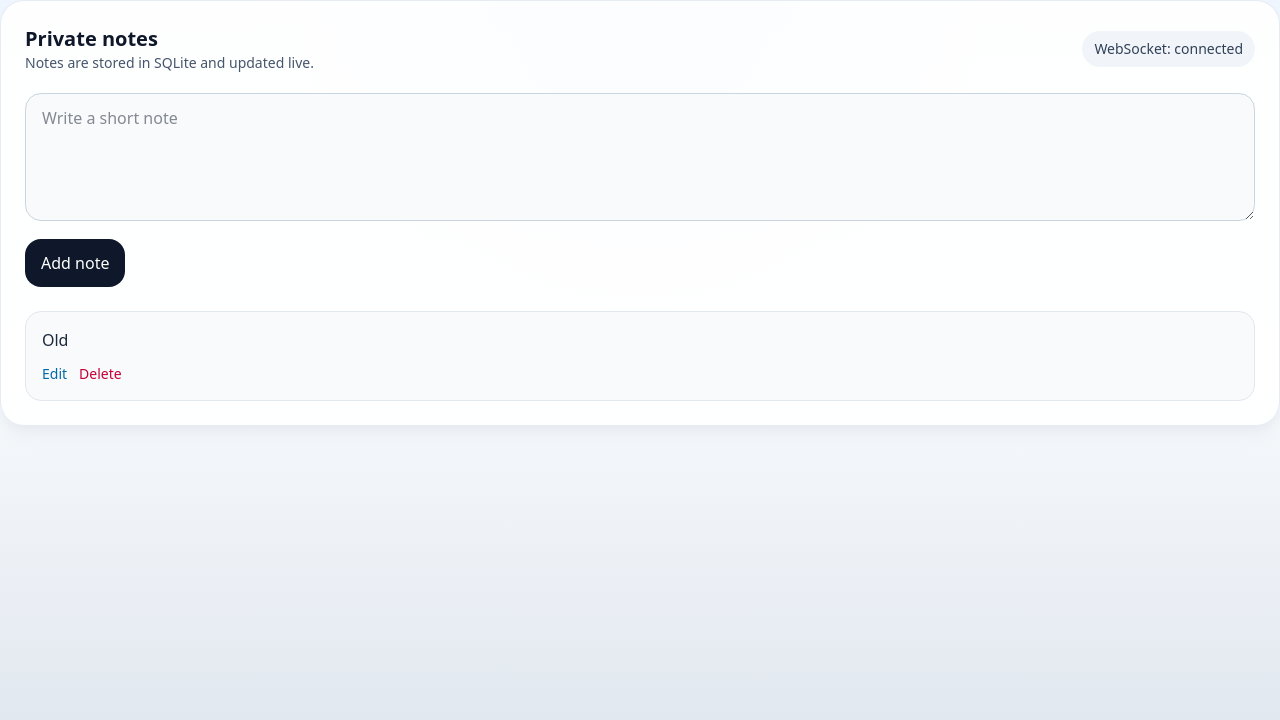
NotesPanel › loads notes and saves a new note
Expected: the text "Old" is shown, [42, 329, 68, 351]
Type "New note" into the text box with placeholder "Write a short note". click: [640, 157]
box: [25, 93, 1255, 221]
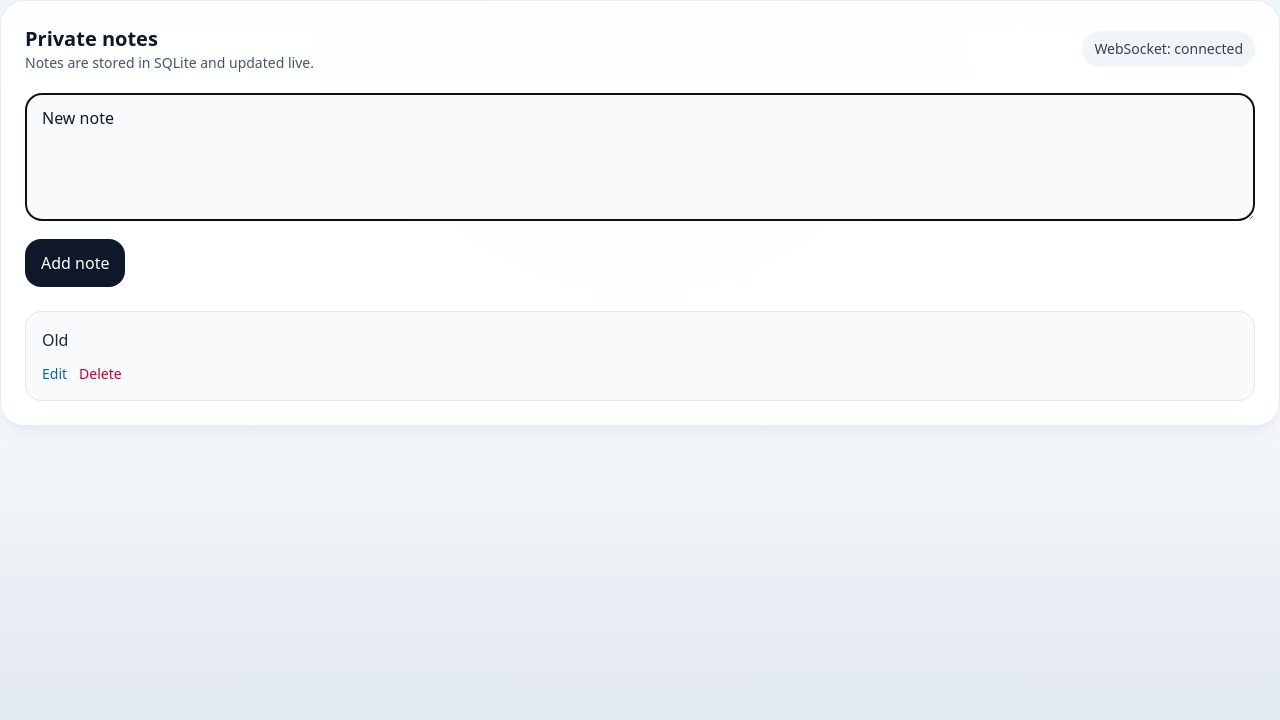
Click the button "Add note". click: [75, 263]
box: [25, 239, 125, 287]
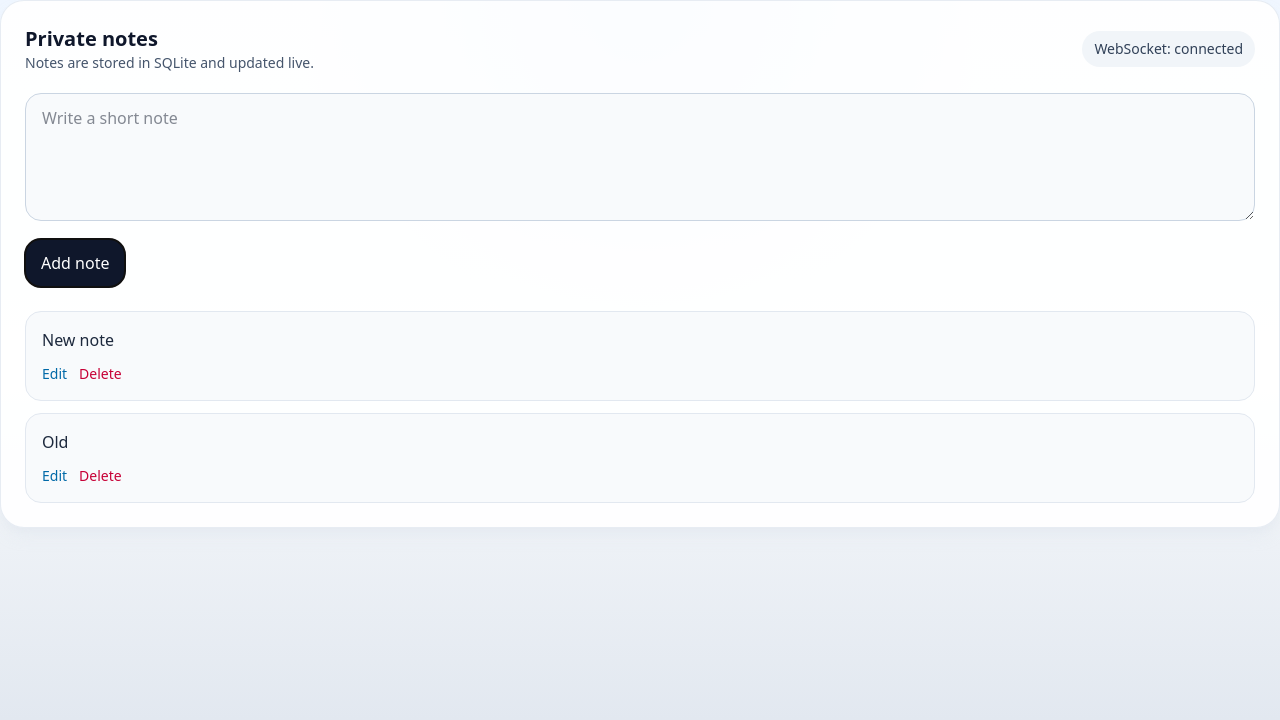
Expected: the text "New note" is shown, [42, 329, 114, 351]
